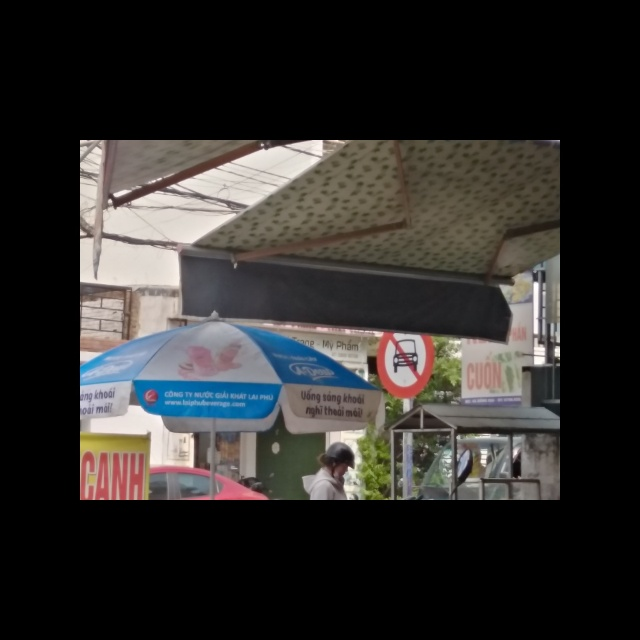Cấm xe ô tô: (373, 332, 436, 401)
